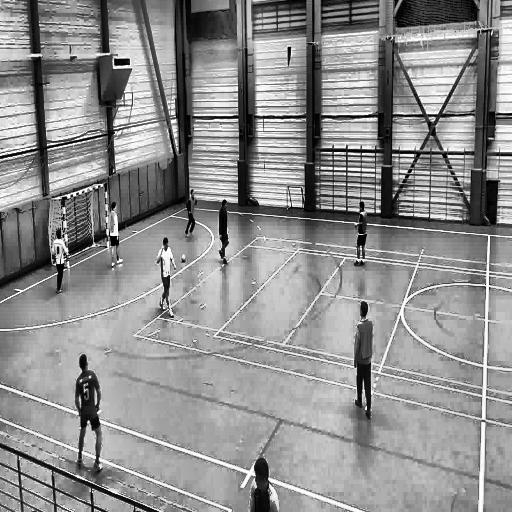ball: (177, 251, 189, 265)
player: (74, 353, 104, 472), (350, 299, 376, 423), (248, 457, 278, 512), (157, 238, 175, 323), (106, 200, 124, 270), (51, 229, 68, 296), (217, 193, 231, 267), (354, 202, 369, 270), (183, 189, 200, 241)
